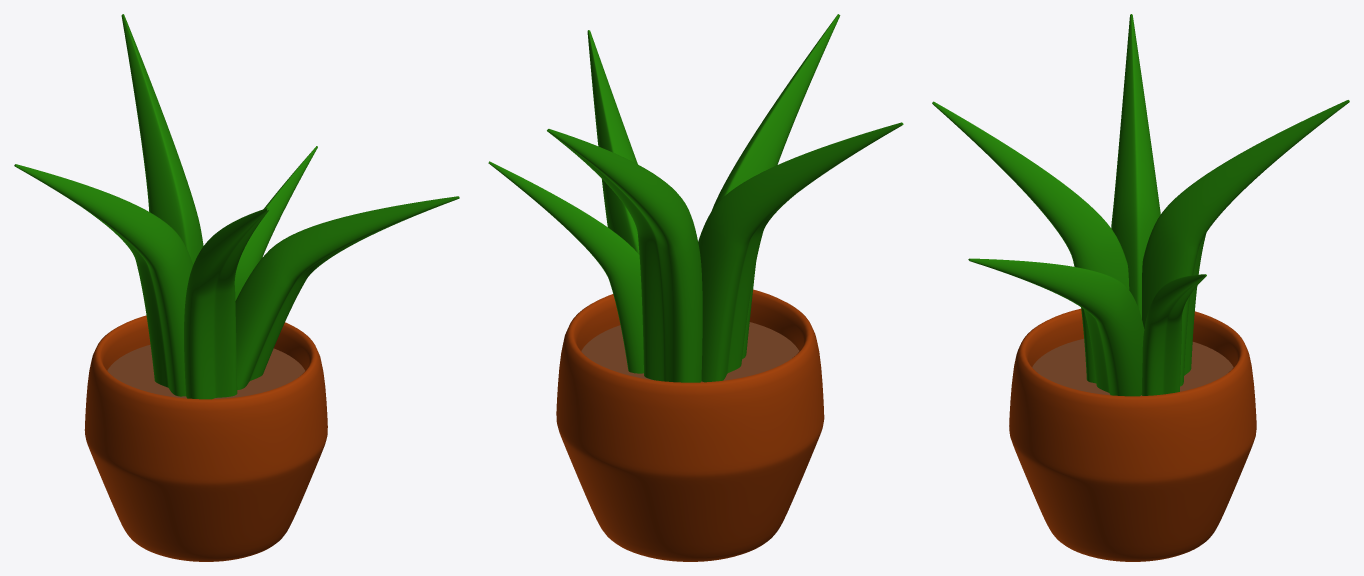
File: Plant.fbx
3 renders of one model, left to right at view 1: azimuth 30°, elevation 25°; view 2: azimuth 150°, elevation 25°; view 3: azimuth 270°, elevation 25°, orthographic. The views are drawn at different scales.
Parts seen in each view (by area): view 1: Plant; view 2: Plant; view 3: Plant.
Boxes of the visible parts, x1,y1,x2,y2 form: Plant: (14,14,459,561); Plant: (488,14,903,561); Plant: (932,14,1349,561).
Bounding box in the file's own units: 524 × 598 × 509.
